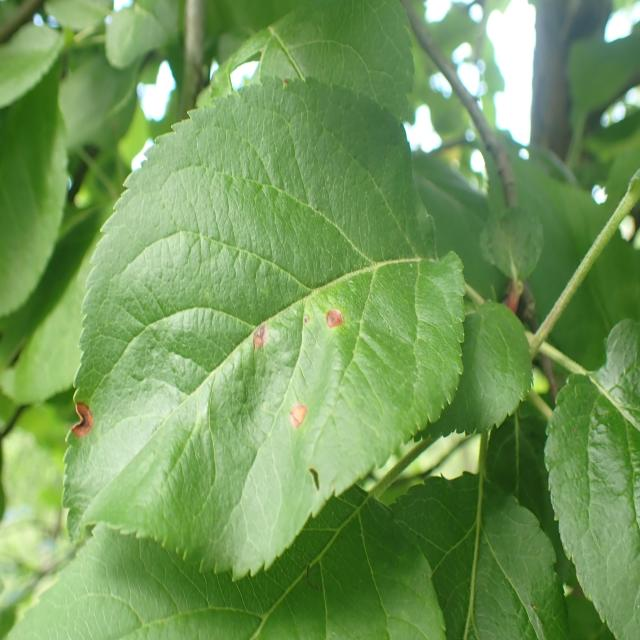Black Rot: (313, 277, 363, 356), (242, 297, 288, 373), (65, 380, 100, 466), (267, 399, 323, 442)
